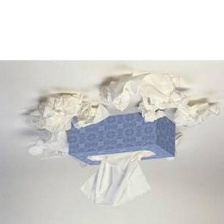book: (63, 107, 180, 171)
tissue: (74, 148, 157, 212), (95, 68, 196, 115), (17, 89, 115, 137), (23, 124, 93, 172), (169, 94, 223, 132), (132, 94, 170, 125), (162, 129, 186, 164)
